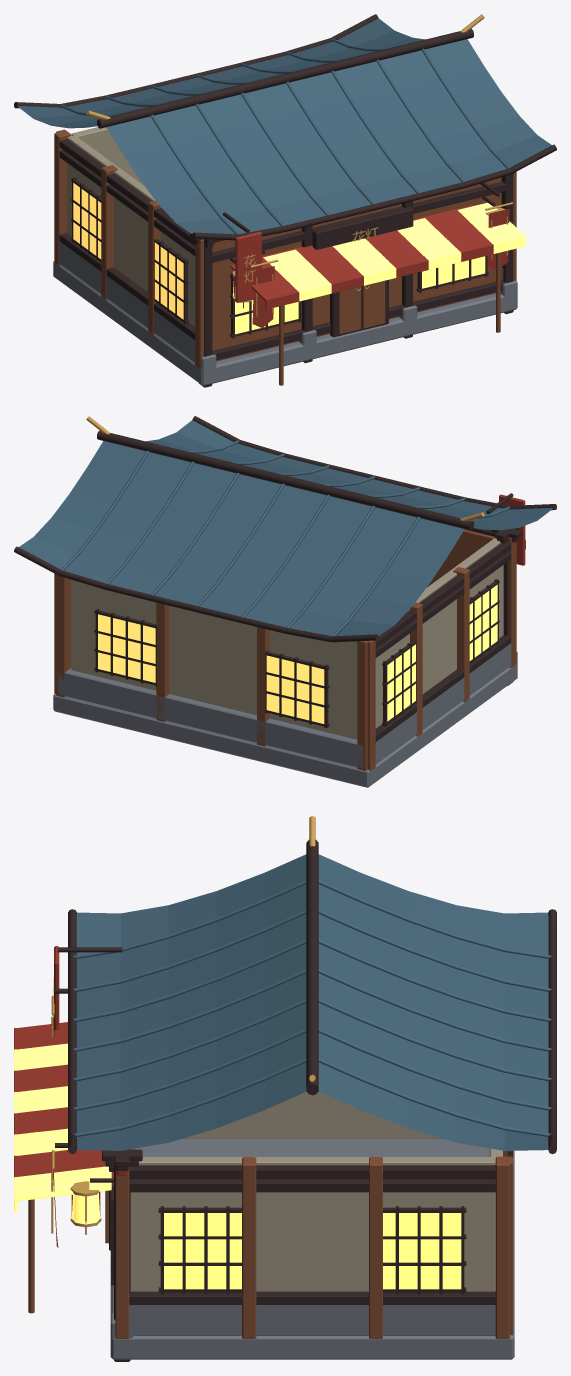
File: model-shop-01.glb
3 views of the same model, one above another, from view 1: azimuth 30°, elevation 25°; view 2: azimuth 150°, elevation 25°; view 3: azimuth 270°, elevation 25° (orthographic). The views are drawn at different scales.
Visible parts, largest first — view 1: model-shop-01; view 2: model-shop-01; view 3: model-shop-01.
Part boxes in pixels (x1=…): model-shop-01: x1=14, y1=14, x2=556, y2=387; model-shop-01: x1=14, y1=416, x2=556, y2=787; model-shop-01: x1=14, y1=816, x2=556, y2=1361.
Bounding box in the file's own units: 10.55 × 5.94 × 9.28.
